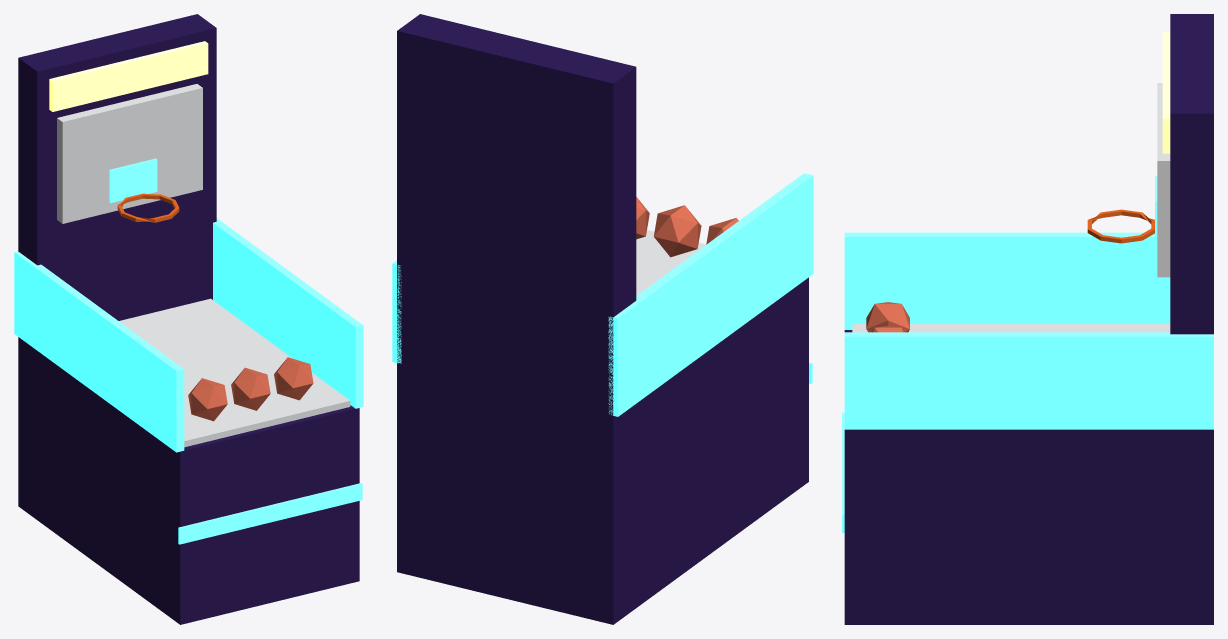
The model's file is hoops_arcade.73716be65999.glb.
The picture shows the model from 3 angles, left to right: view 1: azimuth 30°, elevation 25°; view 2: azimuth 150°, elevation 25°; view 3: azimuth 270°, elevation 25°; orthographic projection. The views are drawn at different scales.
Parts seen in each view (by area): view 1: hoops_arcade; view 2: hoops_arcade; view 3: hoops_arcade.
Boxes of the visible parts, x1,y1,x2,y2 form: hoops_arcade: [14, 14, 363, 624]; hoops_arcade: [392, 14, 813, 624]; hoops_arcade: [842, 14, 1213, 624].
Bounding box in the file's own units: 0.96 × 2.2 × 1.45.
